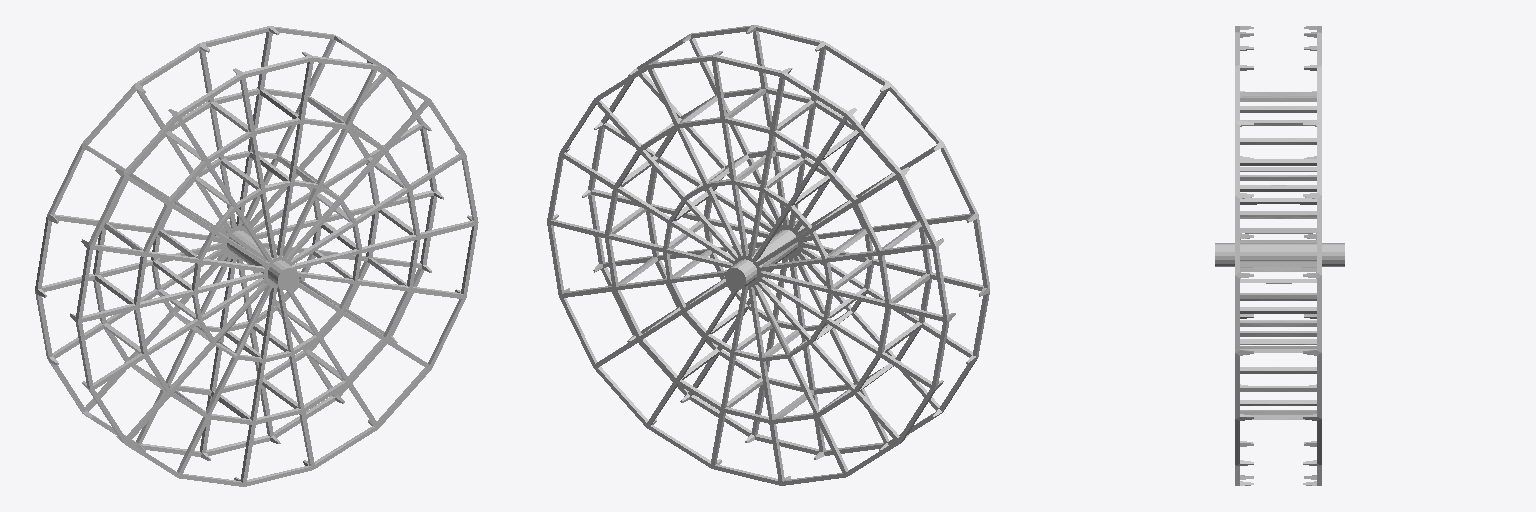
File: circleWith.obj
The picture shows the model from 3 angles: view 1: azimuth 30°, elevation 25°; view 2: azimuth 150°, elevation 25°; view 3: azimuth 270°, elevation 25°; orthographic projection.
Visible parts, largest first — view 1: Ruota, Supporto_02; view 2: Ruota, Supporto_02; view 3: Ruota, Supporto_02.
Part boxes in pixels (x1,y1,x2,y2): Ruota: (35,26,478,486); Supporto_02: (215,221,298,289); Ruota: (547,25,989,485); Supporto_02: (725,220,809,289); Ruota: (1235,26,1321,485); Supporto_02: (1215,243,1344,266).
Size of the model in its own units: 14.26 by 14.07 by 3.98.